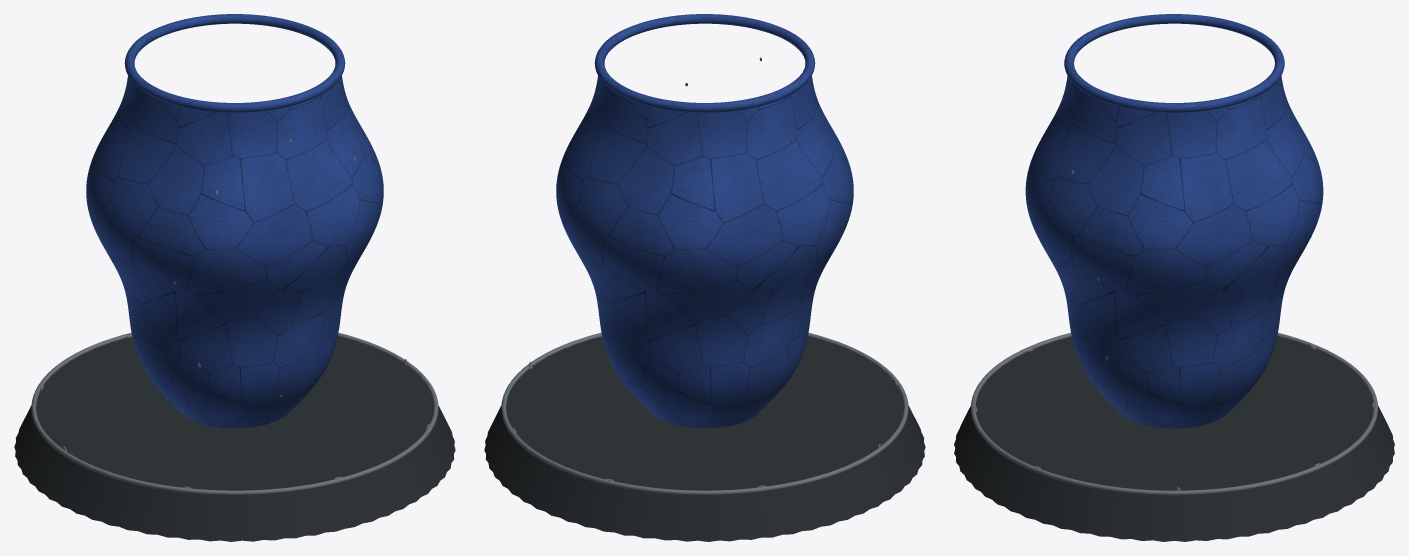
The picture shows the model from 3 angles, left to right: view 1: azimuth 30°, elevation 25°; view 2: azimuth 150°, elevation 25°; view 3: azimuth 270°, elevation 25°; orthographic projection.
Parts seen in each view (by area): view 1: surface specimen, neutral specimen stand, specimen edge; view 2: surface specimen, neutral specimen stand, specimen edge; view 3: surface specimen, neutral specimen stand, specimen edge.
Part boxes in pixels (x1,y1,x2,y2): surface specimen: (86, 14, 383, 428); neutral specimen stand: (14, 337, 455, 541); specimen edge: (31, 332, 438, 495); surface specimen: (556, 14, 853, 428); neutral specimen stand: (484, 336, 925, 541); specimen edge: (501, 332, 908, 495); surface specimen: (1025, 14, 1323, 428); neutral specimen stand: (954, 336, 1394, 541); specimen edge: (971, 333, 1377, 495).
Size of the model in its own units: 0.539 by 0.526 by 0.539.
Materials: 4 (1 with a texture image).
